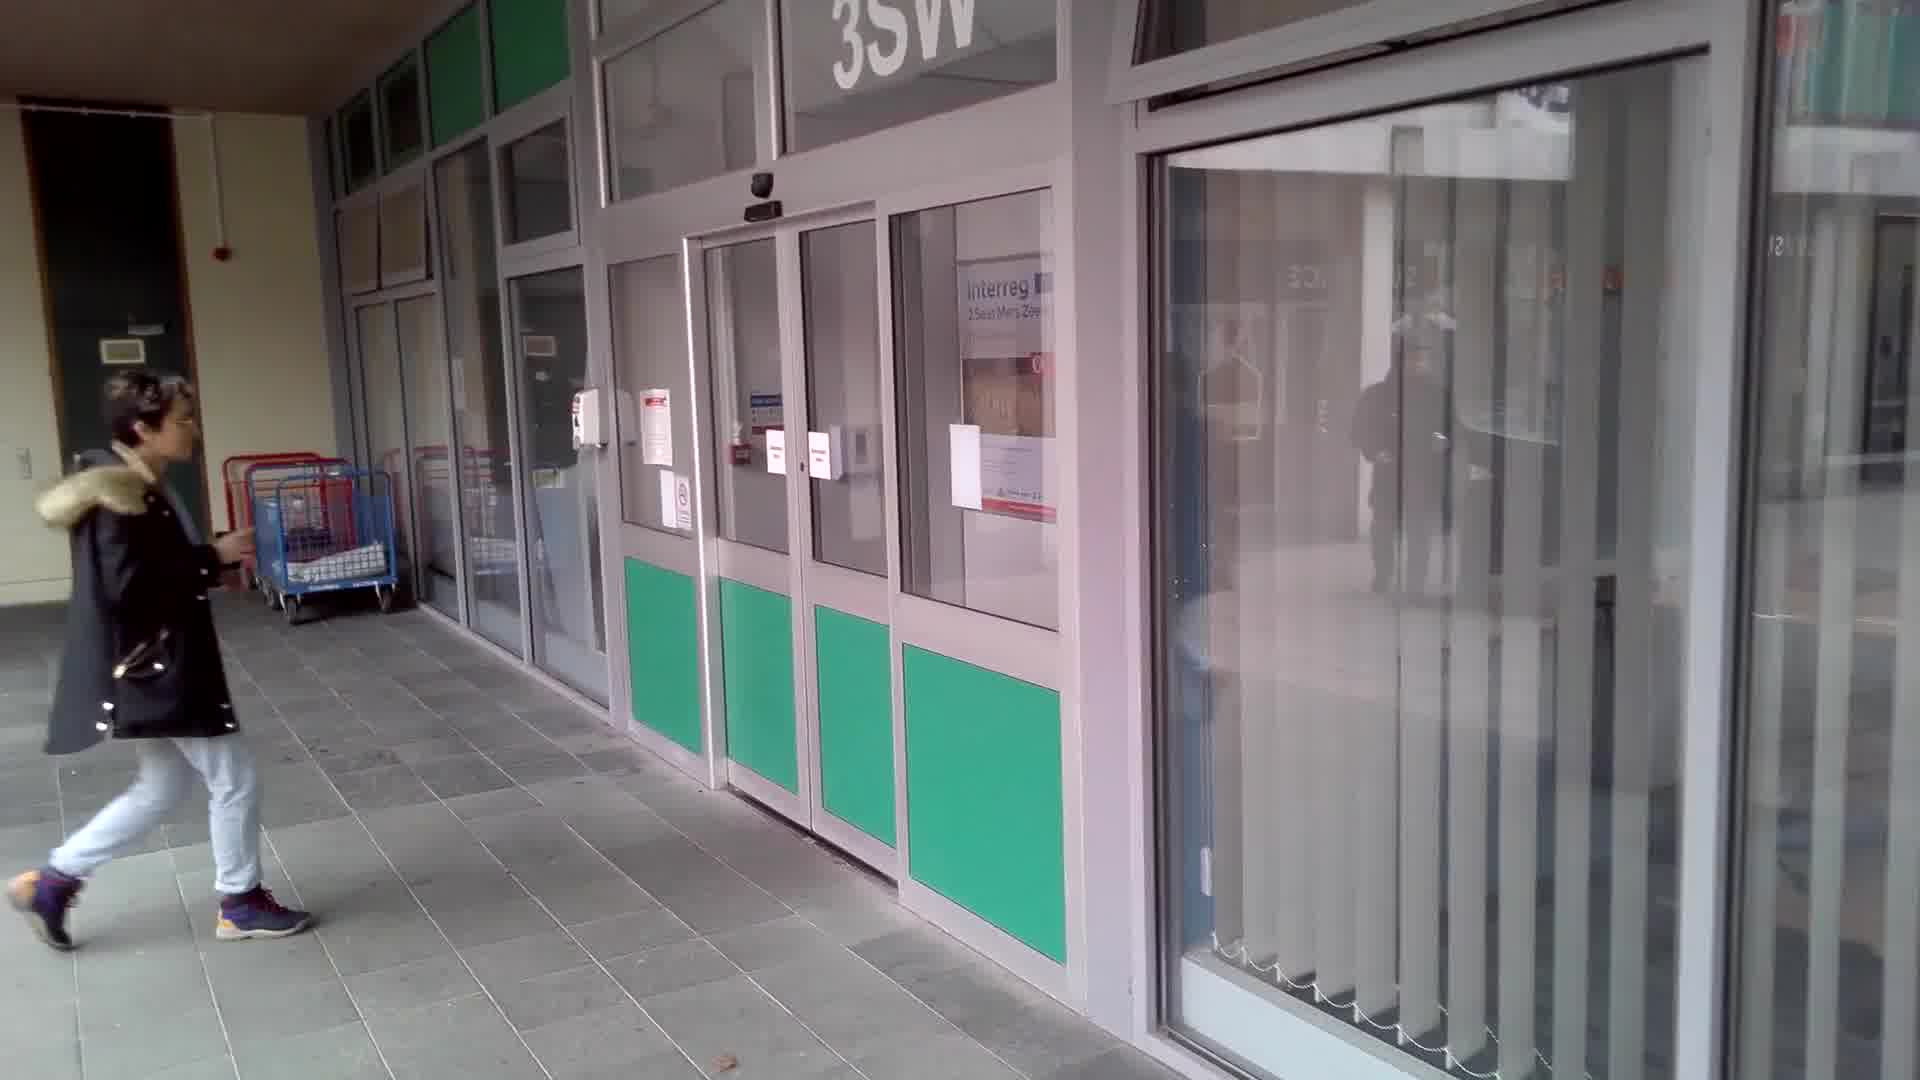Door: (680, 213, 933, 915)
Person: (65, 369, 290, 943)
